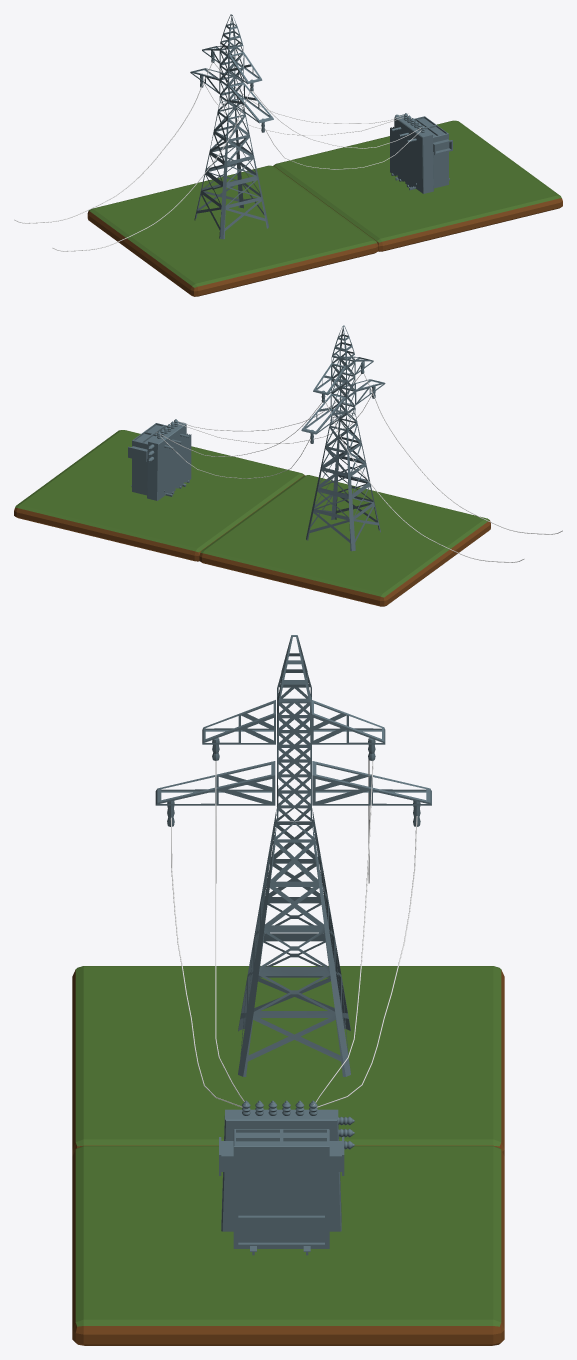
File: TransmissionTower_003.fbx
The picture shows the model from 3 angles, top to bottom: view 1: azimuth 30°, elevation 25°; view 2: azimuth 150°, elevation 25°; view 3: azimuth 270°, elevation 25°; orthographic projection. The views are drawn at different scales.
Visible parts, largest first — view 1: WindTurbine_Lg.001, WindTurbine_Lg.002, TransmissionTower_2, Transformer_Casing.002, TowerArms, Plane, Plane.001; view 2: WindTurbine_Lg.001, WindTurbine_Lg.002, TransmissionTower_2, Transformer_Casing.002, TowerArms, Plane, Plane.001; view 3: WindTurbine_Lg.002, WindTurbine_Lg.001, TransmissionTower_2, Transformer_Casing.002, TowerArms, Plane, Transformer_Casing.003.
Part boxes in pixels (x1,y1,x2,y2): WindTurbine_Lg.001: (87,165,378,296); WindTurbine_Lg.002: (273,120,562,251); TransmissionTower_2: (194,14,268,239); Transformer_Casing.002: (390,114,452,193); TowerArms: (190,45,273,132); Plane: (204,63,424,169); Plane.001: (14,61,250,251); WindTurbine_Lg.001: (199,475,490,606); WindTurbine_Lg.002: (14,430,304,561); TransmissionTower_2: (306,325,380,551); Transformer_Casing.002: (128,421,191,500); TowerArms: (301,356,385,443); Plane: (156,373,372,478); Plane.001: (325,373,562,562); WindTurbine_Lg.002: (72,1146,504,1345); WindTurbine_Lg.001: (72,966,504,1155); TransmissionTower_2: (238,635,350,1076); Transformer_Casing.002: (219,1109,344,1255); TowerArms: (155,700,431,826); Plane: (170,760,417,1107); Transformer_Casing.003: (242,1100,354,1149).
Size of the model in its own units: 388 by 171 by 152.
